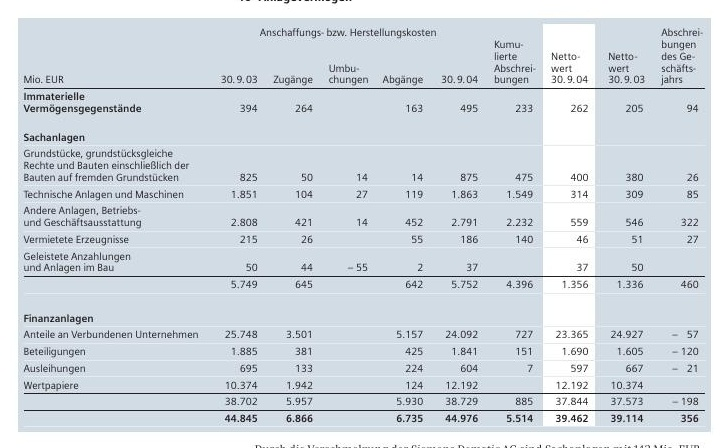table: (0, 0, 724, 448)
